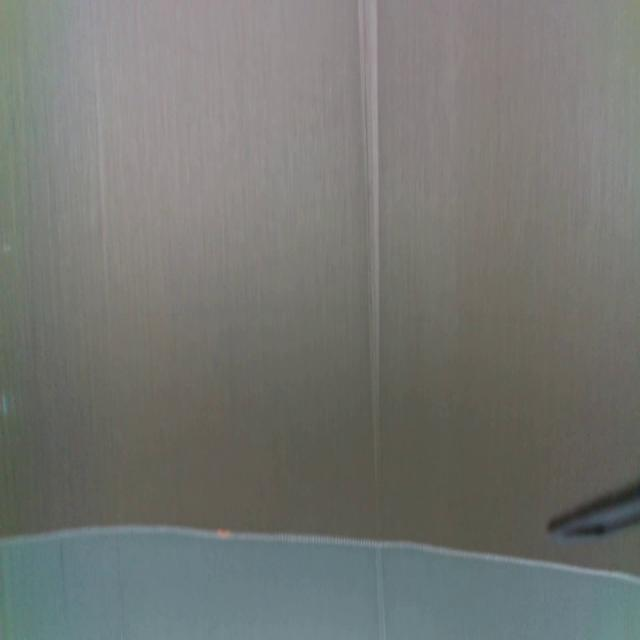crease: (358, 0, 380, 507), (376, 548, 386, 640)
